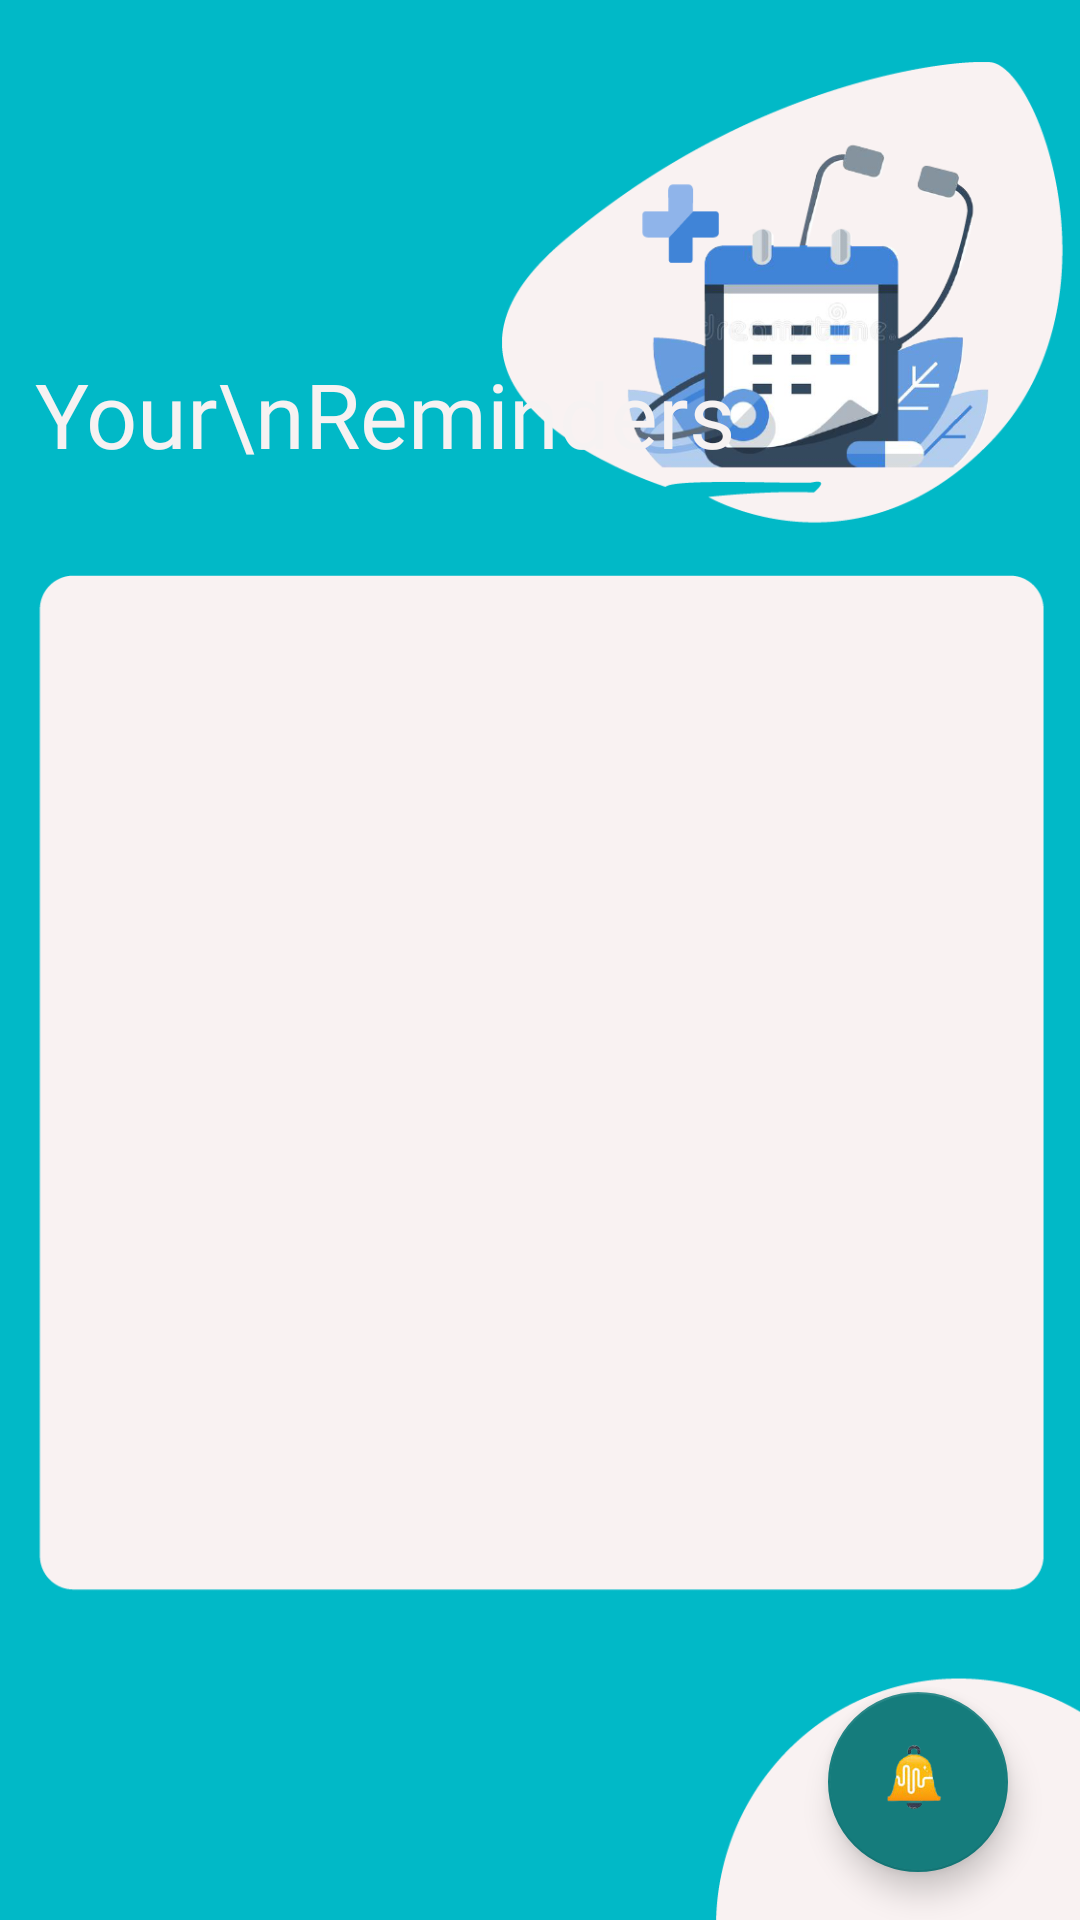

Screen size 1080px x 1920px. Icon name, then its center in pixels as (x,y):
notify: (918,1782)
